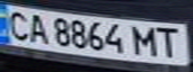4: (103, 20, 130, 55)
6: (87, 19, 106, 52)
8: (48, 15, 72, 47), (66, 17, 87, 51)
A: (24, 11, 51, 44)
C: (3, 7, 33, 40)
M: (130, 23, 163, 57)
T: (154, 25, 187, 58)
